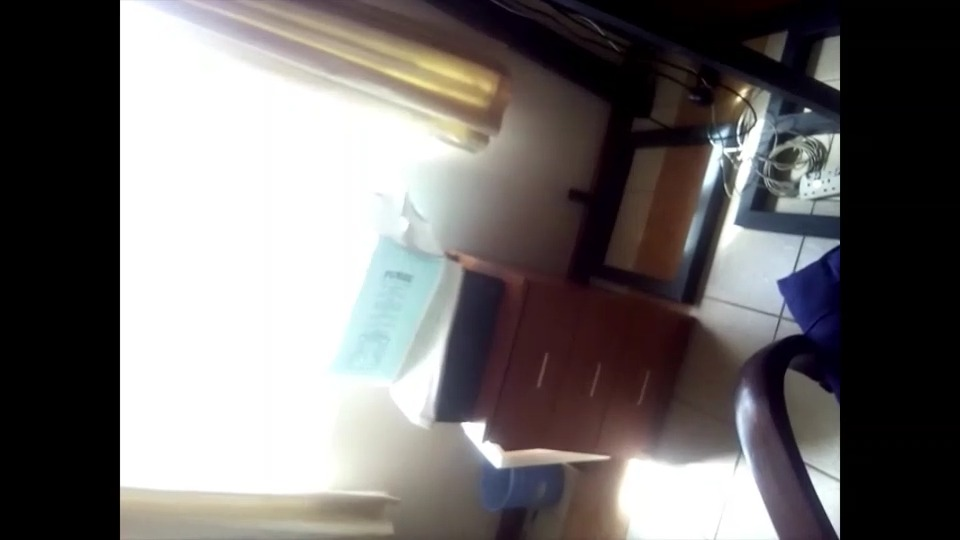wheat_flour_blue_label: (316, 192, 442, 386)
